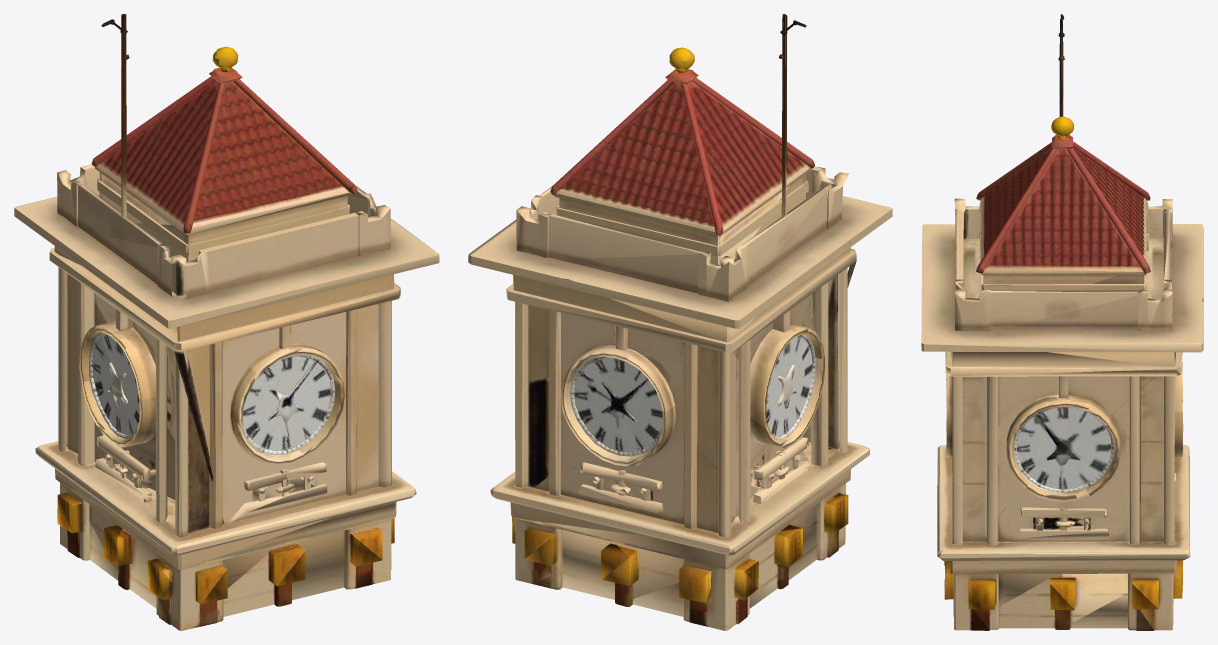
File: clock-tower-top.glb
3 views of the same model, side by side, from view 1: azimuth 30°, elevation 25°; view 2: azimuth 150°, elevation 25°; view 3: azimuth 270°, elevation 25° (orthographic). The views are drawn at different scales.
Bounding box in the file's own units: 4.25 × 8.53 × 4.2.
Materials: 1 (1 with a texture image).
